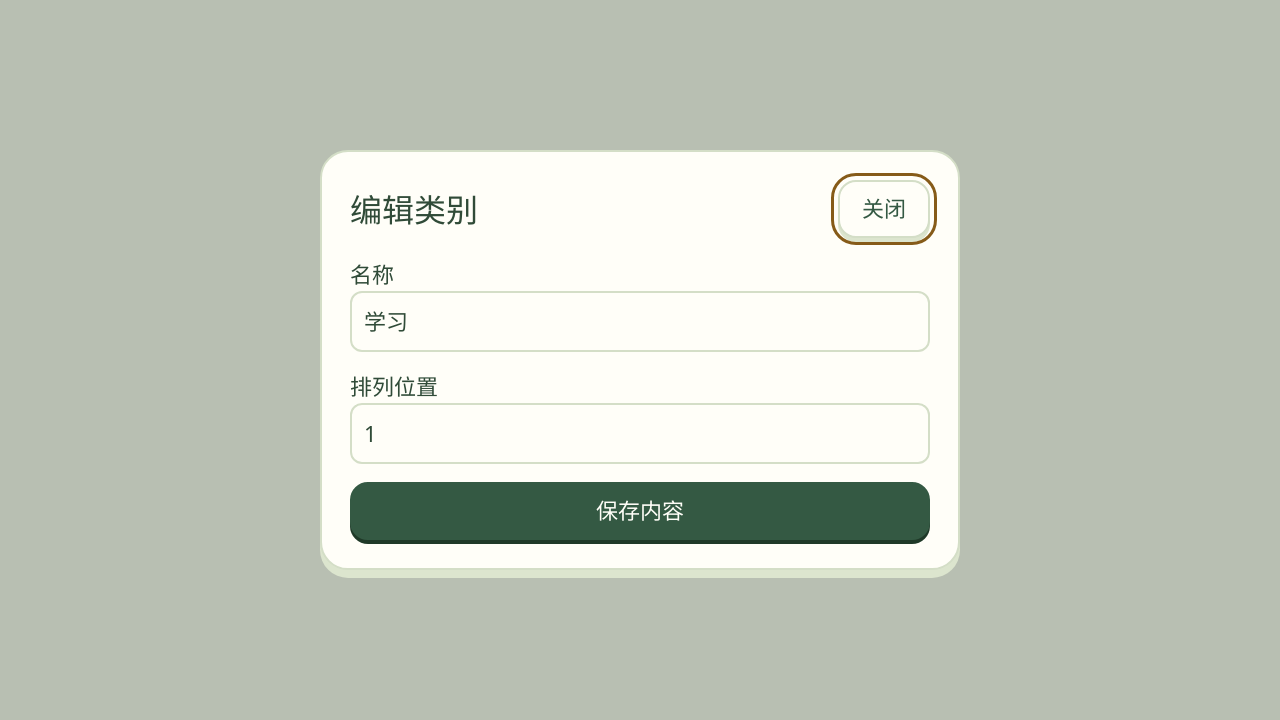
Test: 配置编辑冲突恢复 › 类别冲突时保留草稿与最新排序，读取失败可重试，再次冲突必须重新核对
Replace the text in the field labelled "名称" with "本地类别". click: (640, 322)
box: [350,291,930,352]
Click the button "保存内容". click: (640, 511)
box: [350,482,930,540]
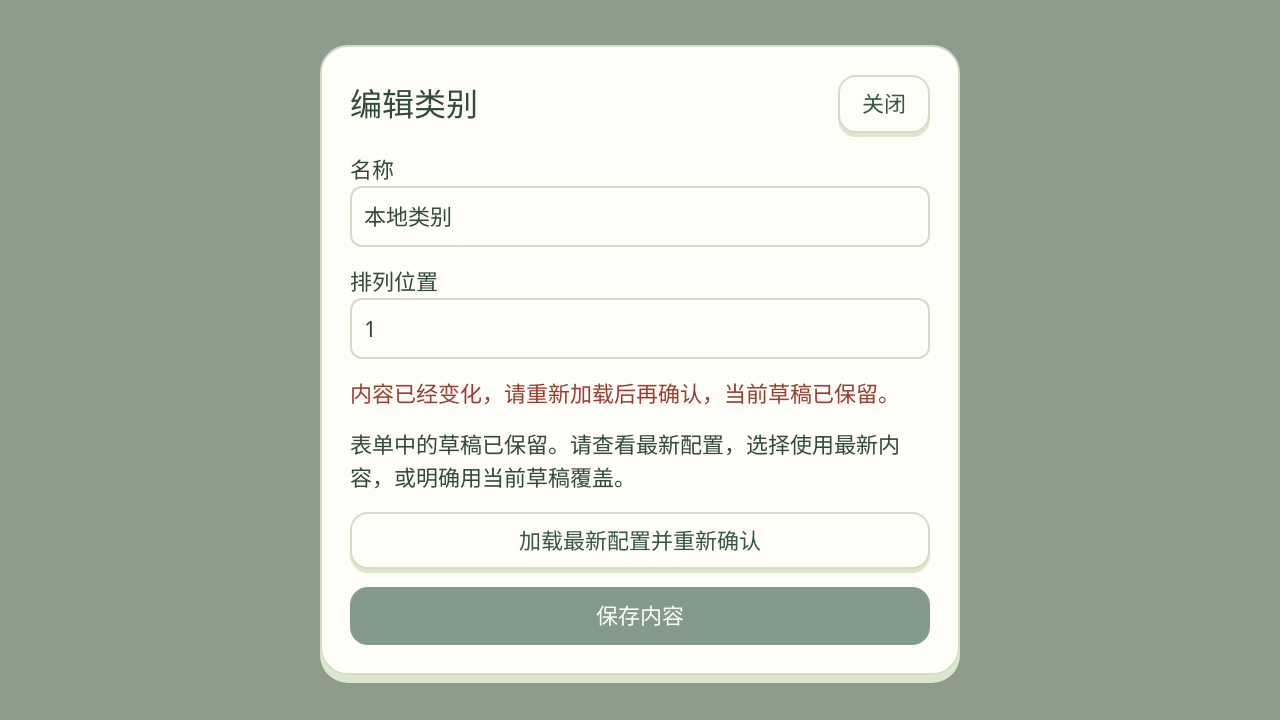
Click the button "加载最新配置并重新确认". click: (640, 541)
box: [350,512,930,569]
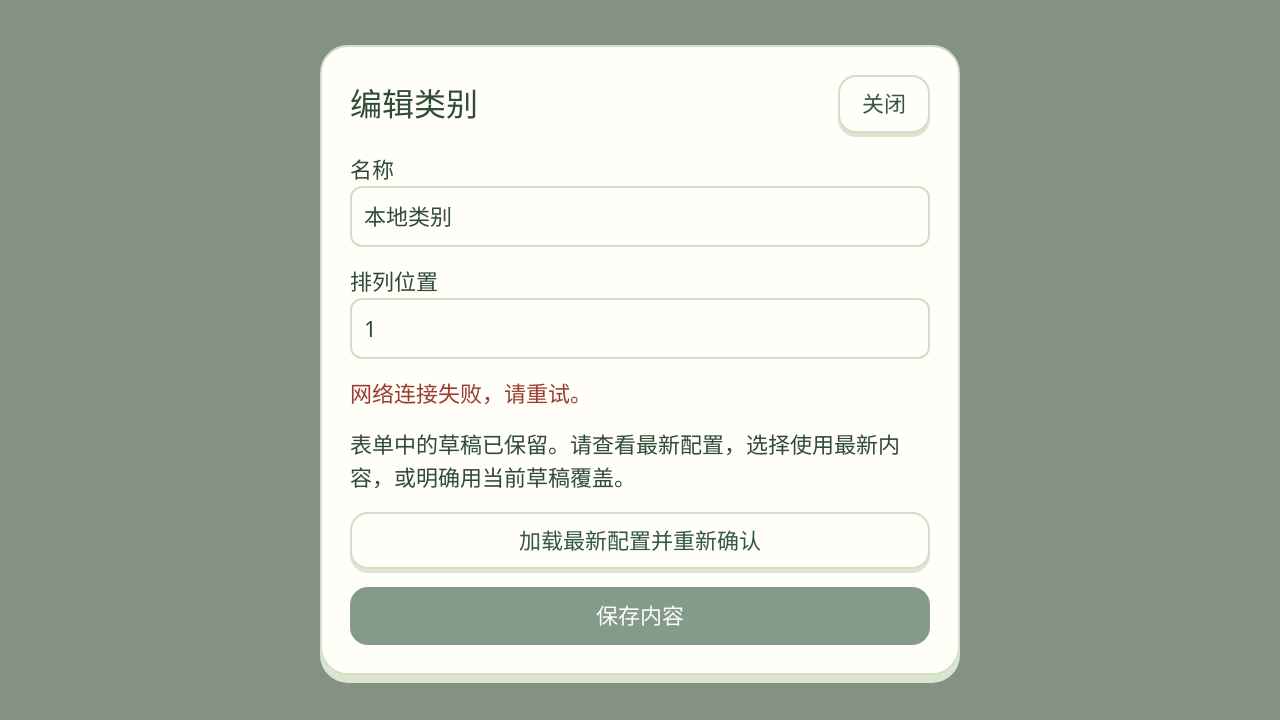
expect the button "以当前草稿覆盖并保存" is not shown: met
expect the button "加载最新配置并重新确认" is enabled: met
expect the button "保存内容" is disabled: met, box [350,587,930,645]
Click the button "加载最新配置并重新确认". click: (640, 541)
box: [350,512,930,569]
(page scrolled)
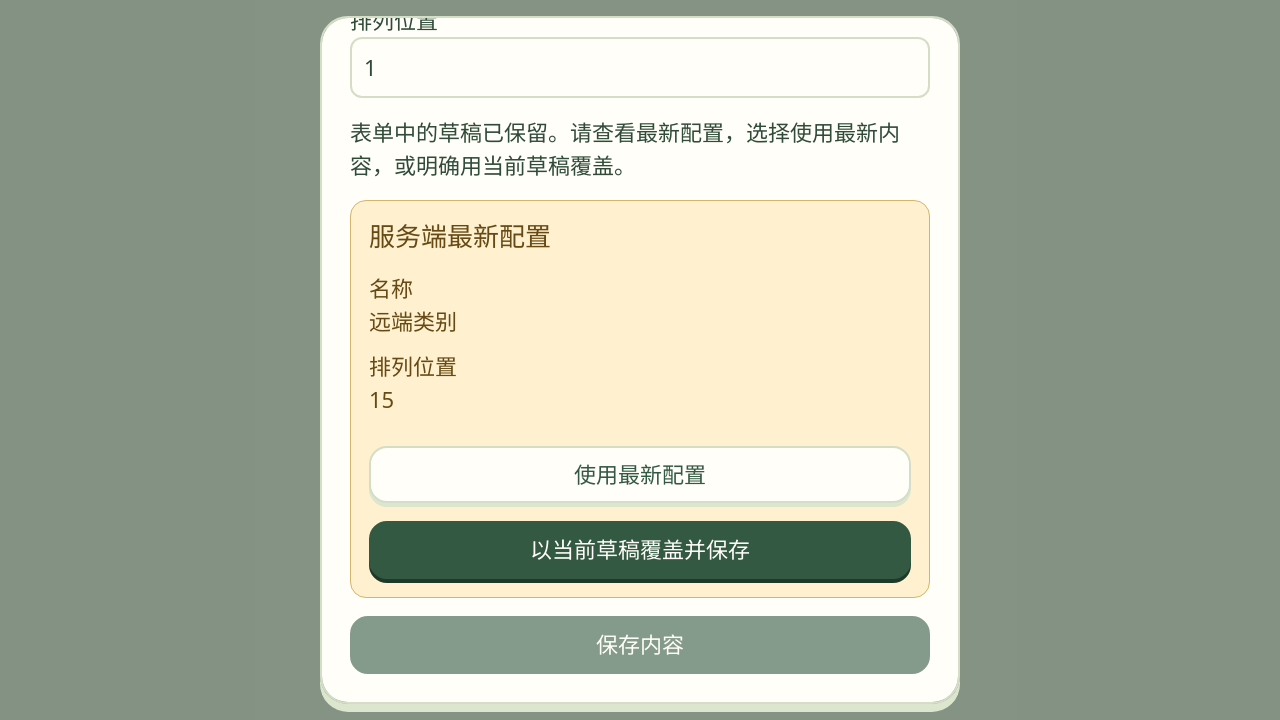
expect the text "15" is shown: met, box [369,384,394,414]
Click the button "以当前草稿覆盖并保存". click: (640, 550)
box: [369,522,911,579]
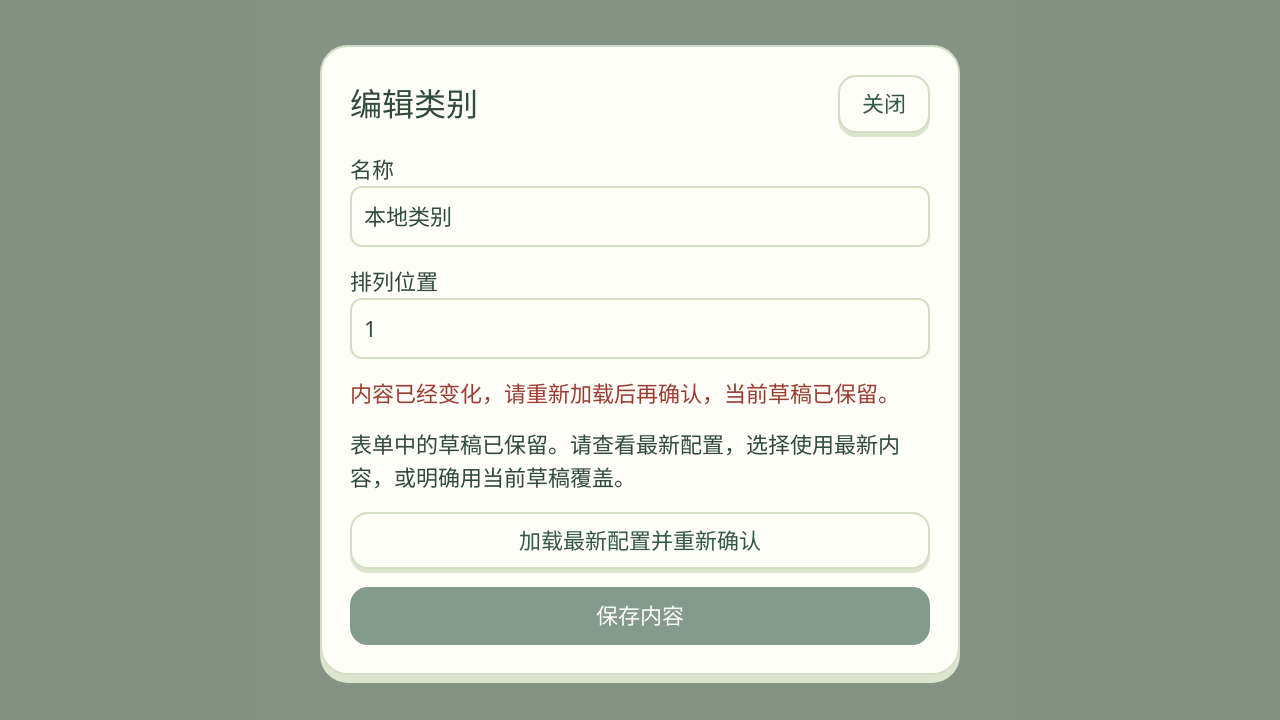
expect the button "保存内容" is disabled: met, box [350,587,930,645]
expect the text "内容已经变化，请重新加载后再确认，当前草稿已保留。" is shown: met, box [350,377,930,410]
expect the button "以当前草稿覆盖并保存" is gone: met
Click the button "加载最新配置并重新确认". click: (640, 541)
box: [350,512,930,569]
(page scrolled)
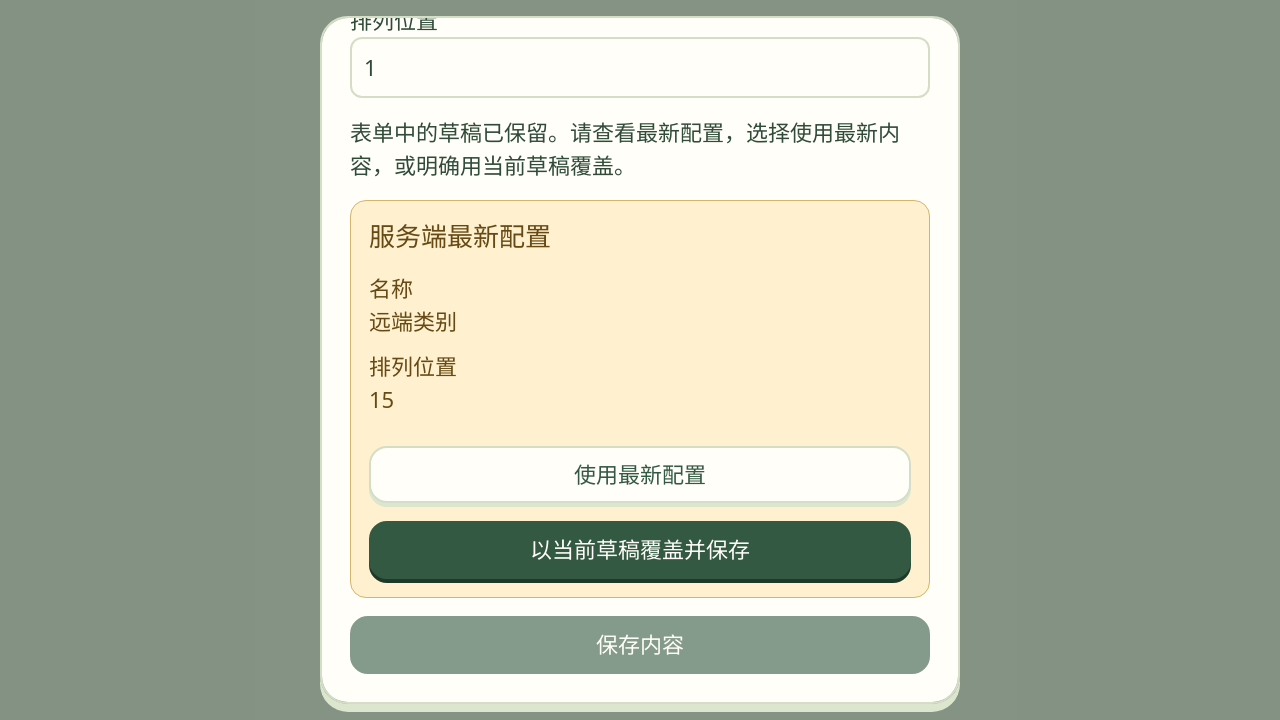
Click the button "使用最新配置". click: (640, 475)
box: [369,446,911,504]
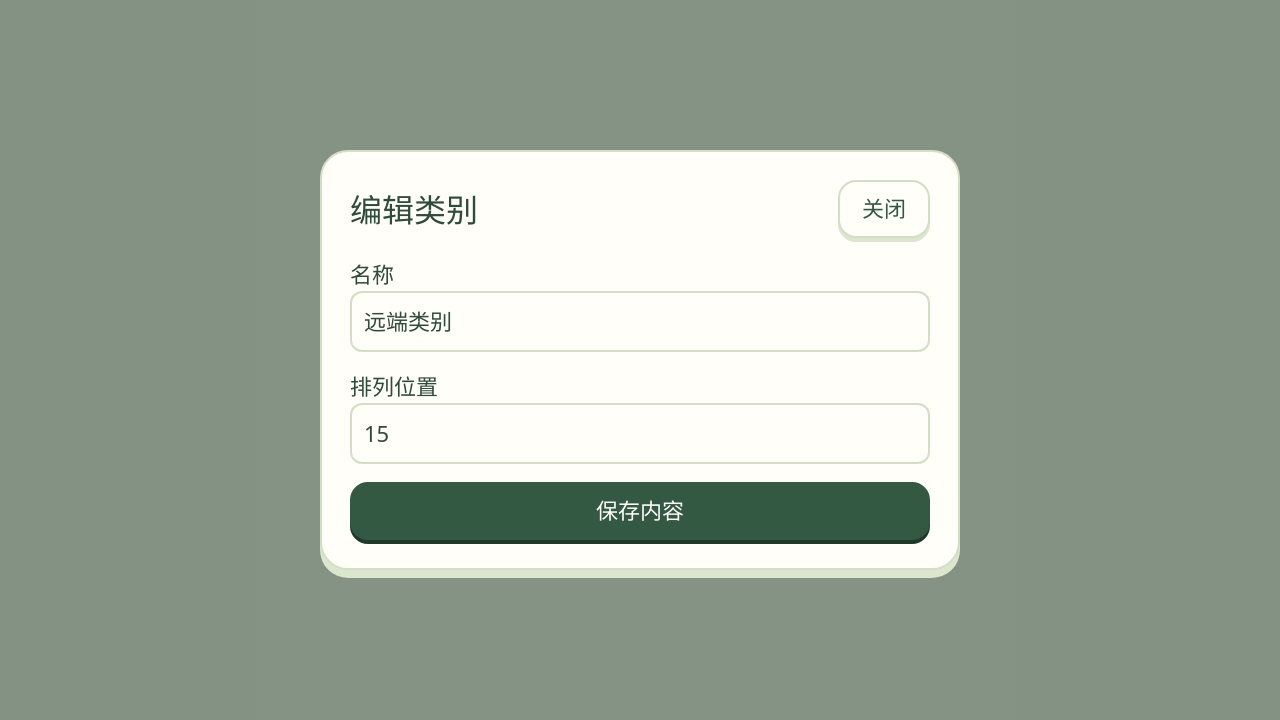
expect the field labelled "名称" holds "远端类别": met, box [350,291,930,352]
expect the number field labelled "排列位置" holds "15": met, box [350,403,930,464]
